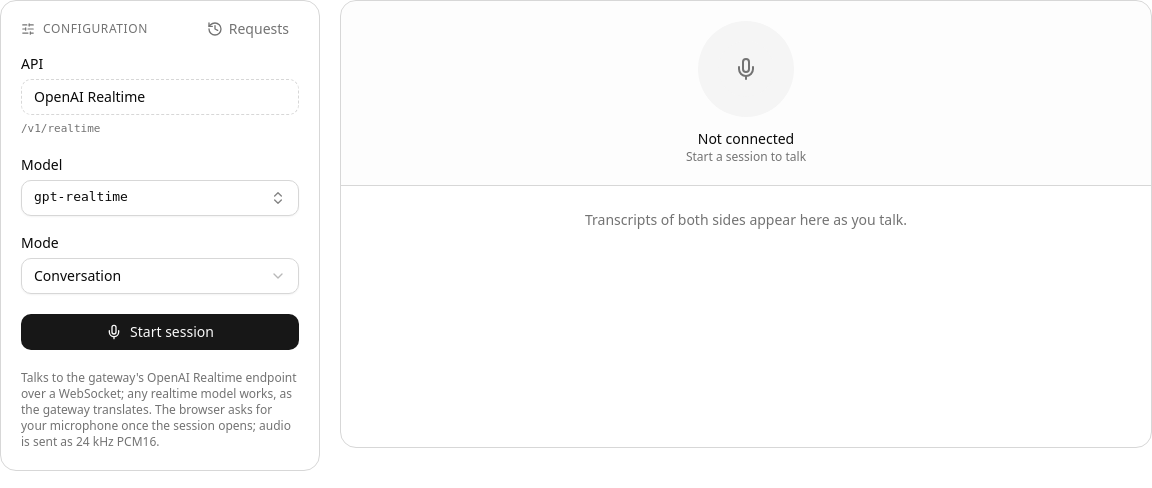
Test: RealtimeTab › says why the gateway closed a session it opened
The image size is (1152, 488).
What coordinates should you click on to do the following:
click the button "Start session"
I would click on:
 (160, 332)
Its box is [21, 314, 299, 350].
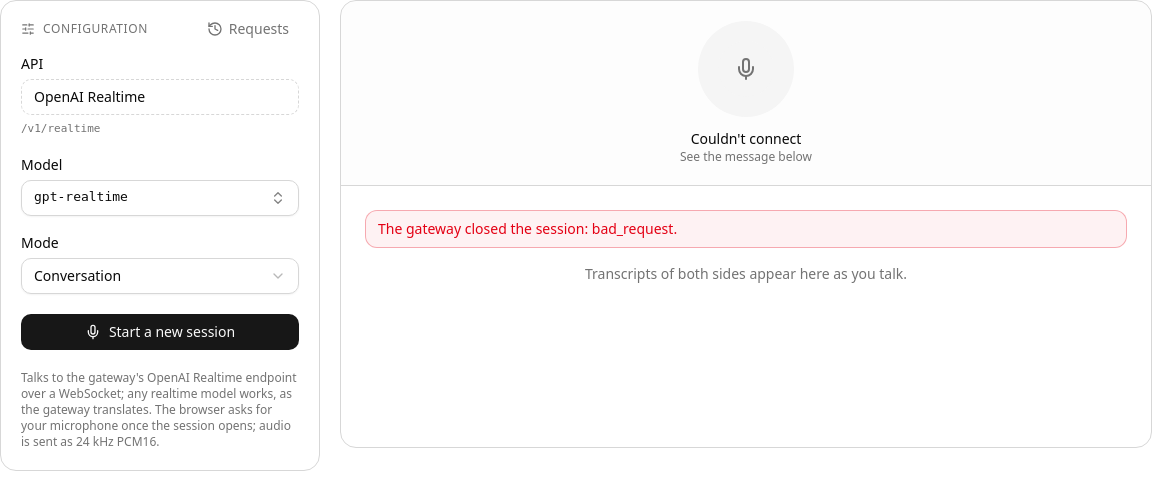
Check: the message "The gateway closed the session: bad_request." is shown, box [365, 210, 1127, 248]
